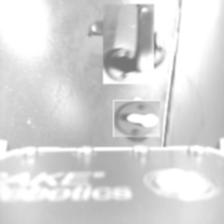Door Handle: (95, 11, 161, 77)
Lock: (115, 97, 158, 140)
